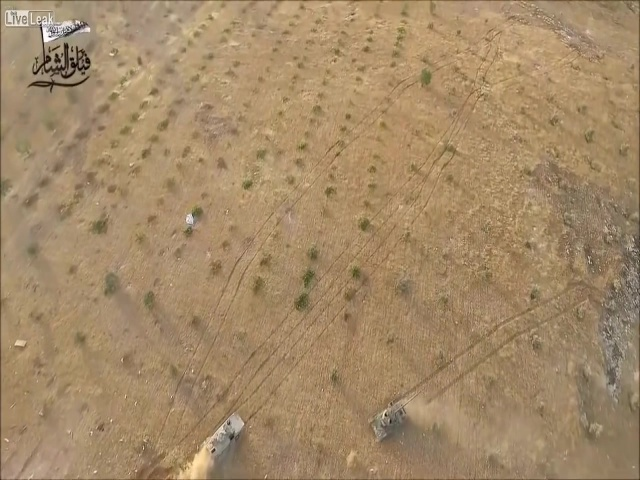vehicle: (200, 411, 245, 464), (370, 402, 408, 442)
